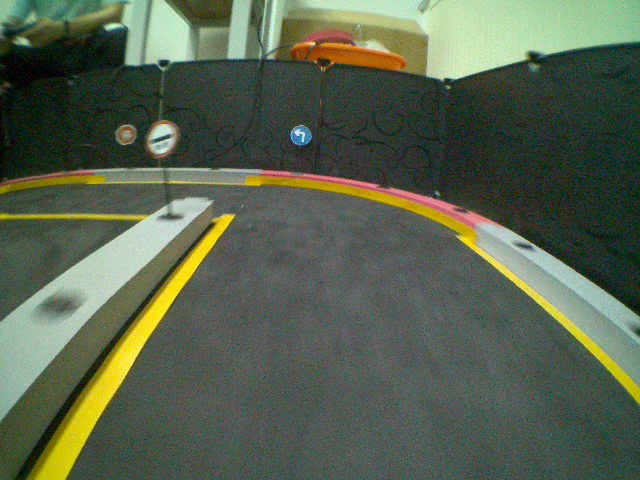Check: (144, 118, 181, 156)
Stop: (113, 122, 138, 148)
turn: (289, 123, 313, 148)
